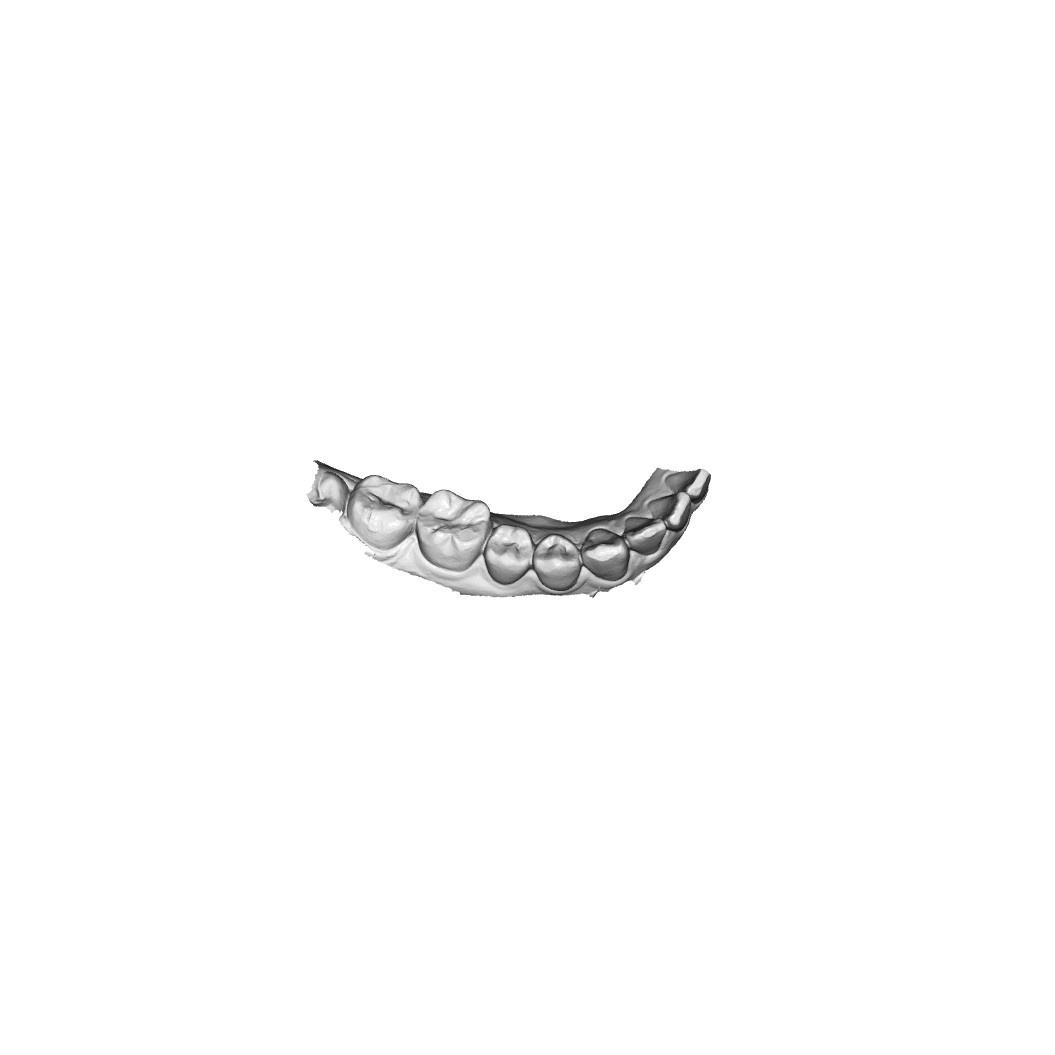canine: (580, 525, 630, 582)
incisor: (646, 491, 696, 533), (623, 515, 668, 557)
molar: (412, 488, 489, 573), (347, 473, 422, 552)
premolar: (481, 524, 537, 584), (531, 532, 584, 590)
